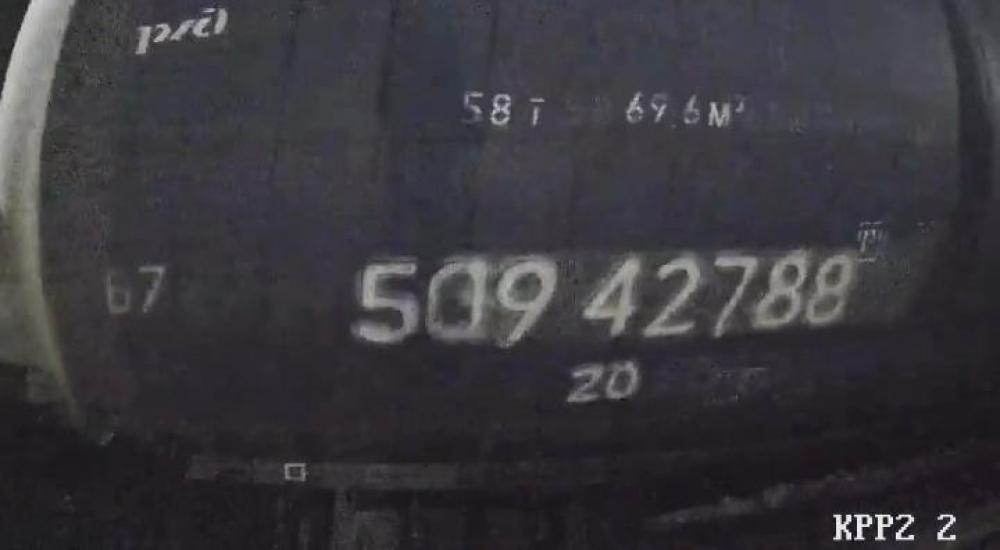Wagon-number: (347, 251, 858, 352)
